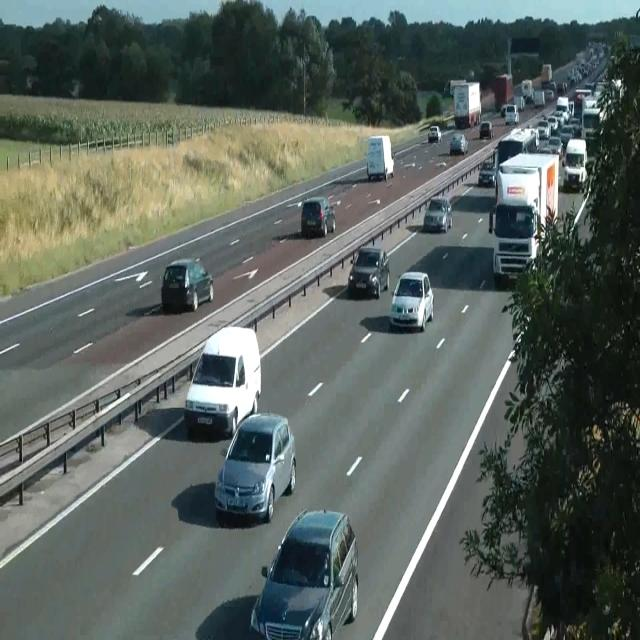bus: (161, 256, 213, 312), (388, 270, 434, 332), (348, 245, 390, 299), (300, 195, 336, 238), (423, 195, 452, 233), (538, 136, 564, 159), (478, 160, 496, 187), (450, 132, 468, 154), (479, 120, 493, 140), (536, 120, 550, 140), (428, 125, 442, 143), (500, 103, 507, 117)
jeep: (250, 507, 358, 638), (214, 412, 296, 524), (183, 324, 261, 438), (563, 137, 587, 190), (504, 103, 518, 125)
minibus: (489, 151, 559, 286), (493, 126, 539, 186), (365, 134, 394, 182), (453, 81, 481, 129), (494, 73, 514, 111), (522, 79, 534, 103)
